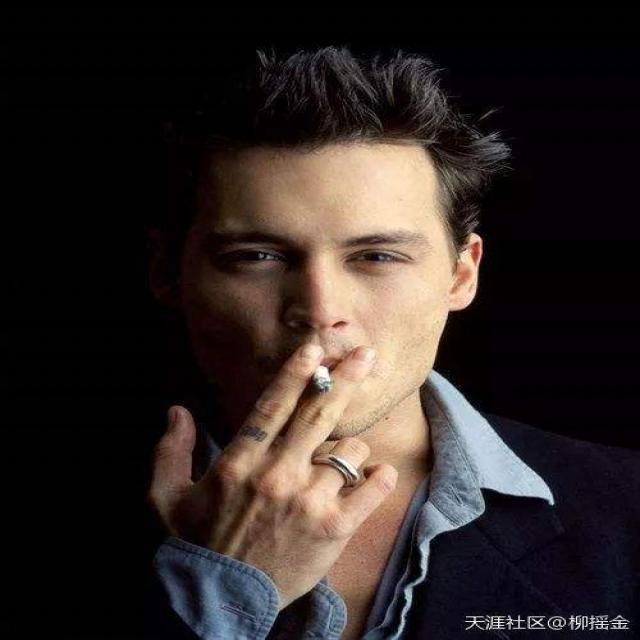cigarette: (308, 360, 339, 396)
